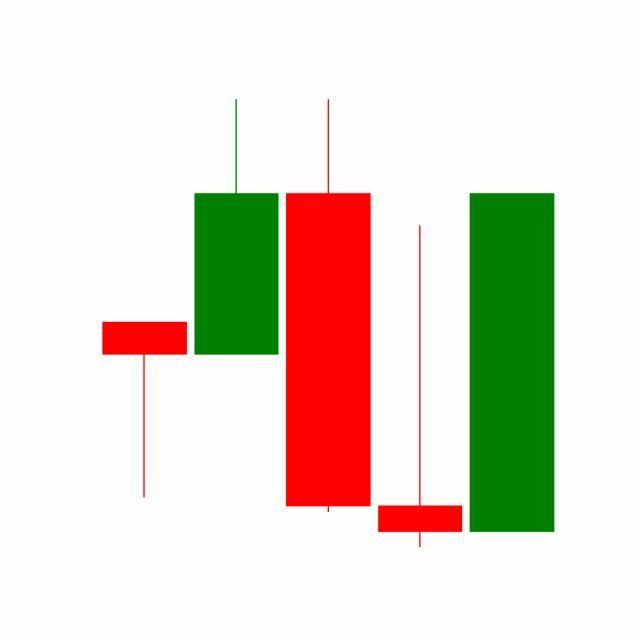Marubozu: (466, 190, 559, 536)
